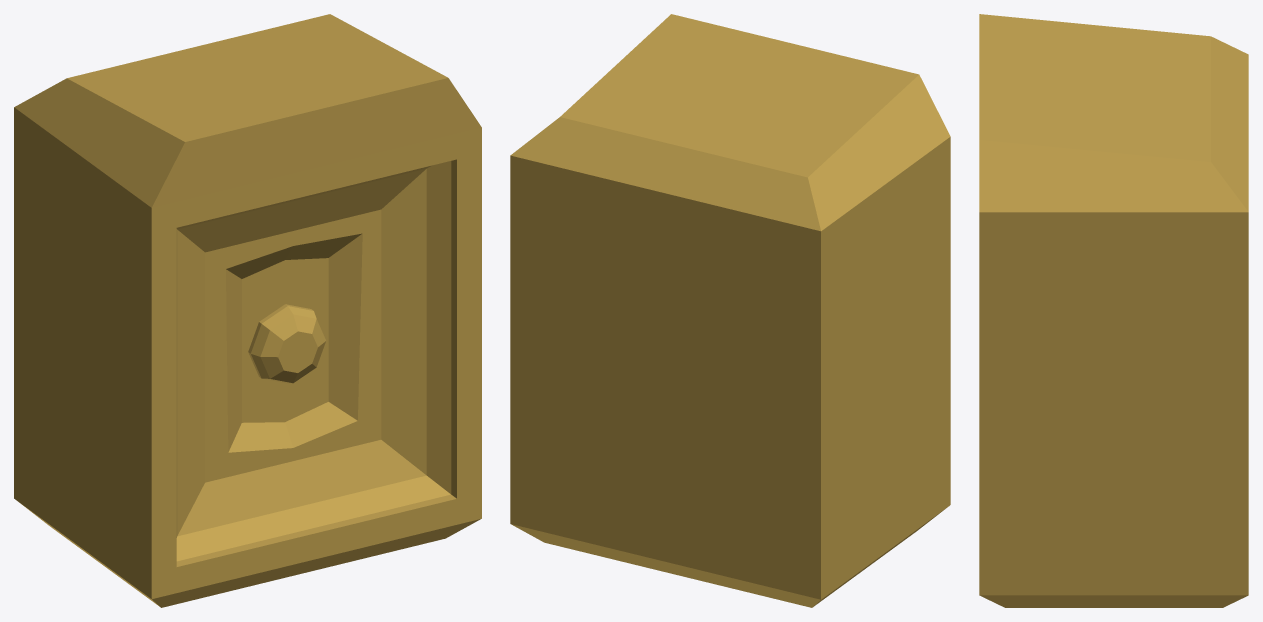
The model's file is caixaDeSom.fbx.
The picture shows the model from 3 angles, left to right: view 1: azimuth 30°, elevation 25°; view 2: azimuth 150°, elevation 25°; view 3: azimuth 270°, elevation 25°; orthographic projection. The views are drawn at different scales.
Parts seen in each view (by area): view 1: Cube; view 2: Cube; view 3: Cube.
Boxes of the visible parts, x1,y1,x2,y2 form: Cube: [14, 14, 481, 607]; Cube: [510, 14, 950, 607]; Cube: [979, 14, 1248, 607].
Size of the model in its own units: 107 by 146 by 77.12.
